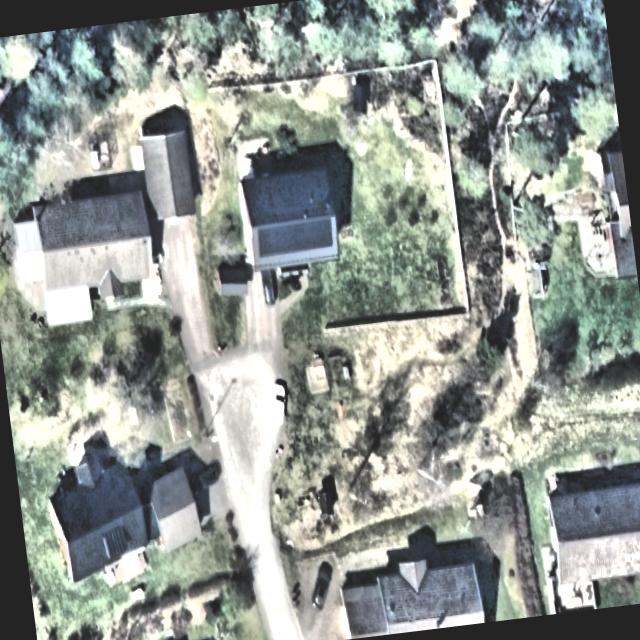roof_pv: (251, 214, 338, 264)
